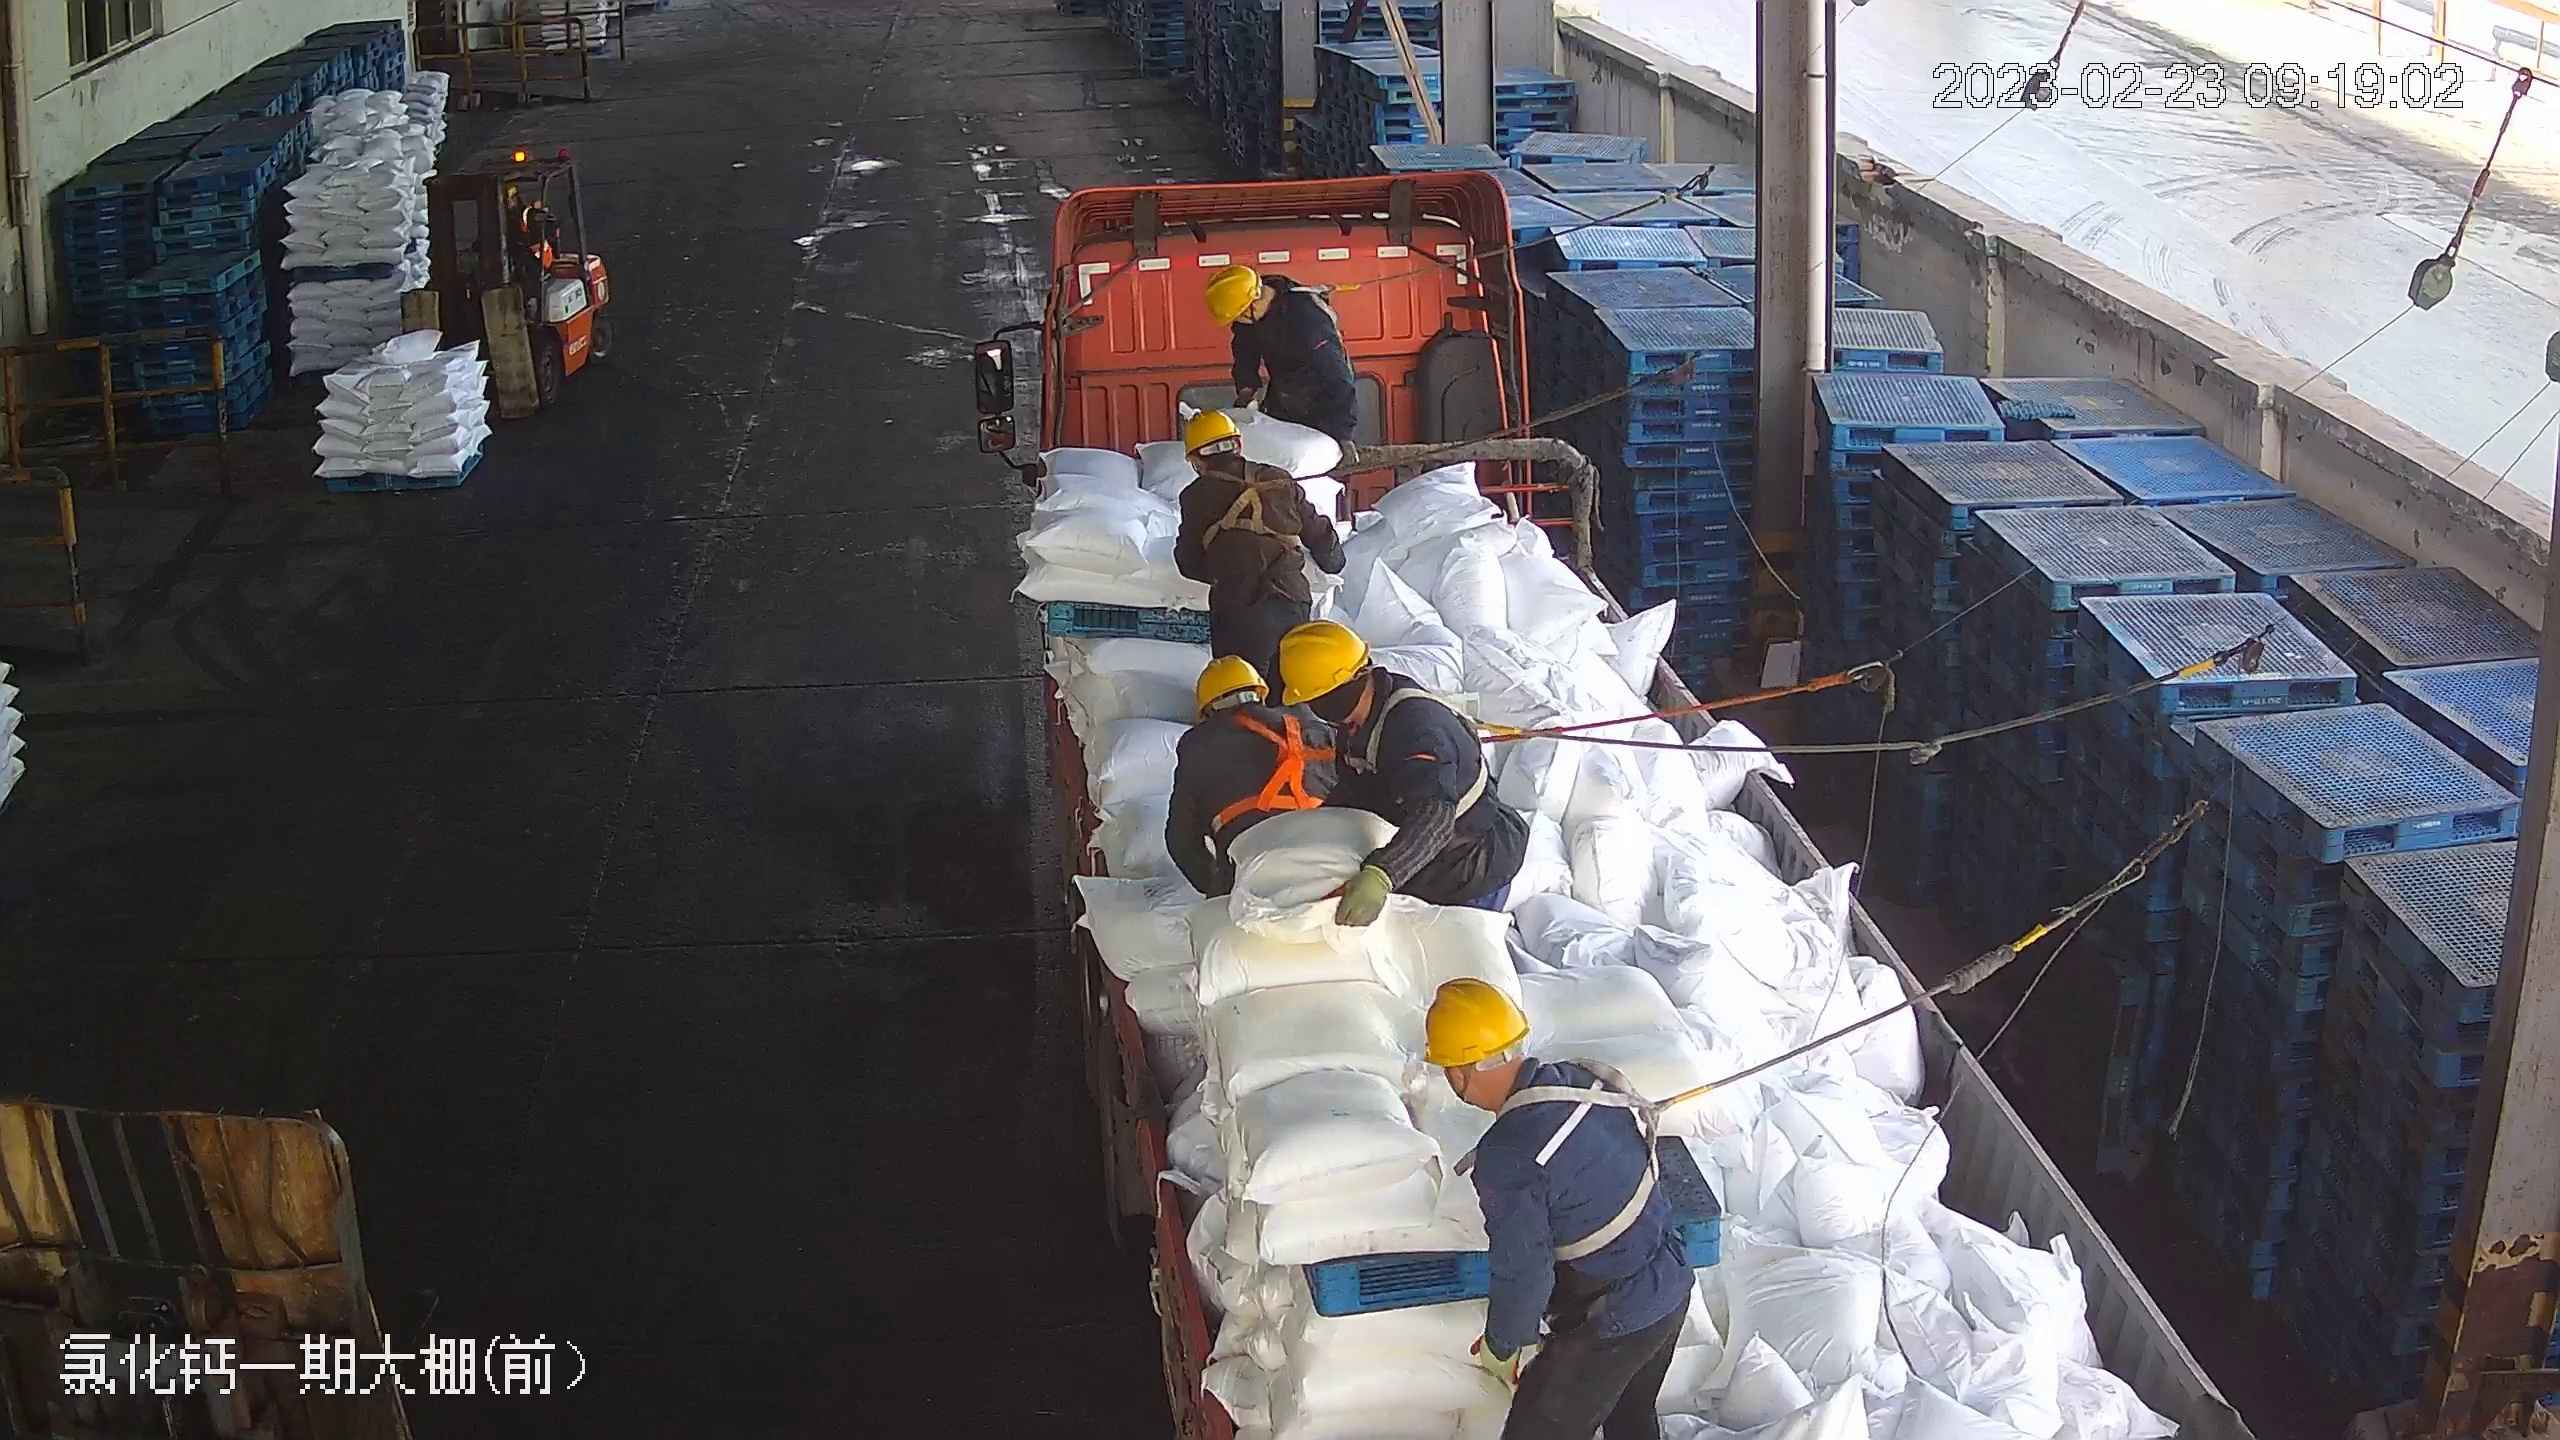belt: (1484, 1062, 1705, 1251), (1341, 680, 1538, 828), (1202, 704, 1328, 825), (1206, 462, 1302, 547), (1286, 277, 1361, 326)
head: (1422, 977, 1638, 1200), (1278, 614, 1451, 775), (1182, 650, 1323, 785), (1178, 406, 1302, 520), (1205, 267, 1325, 360)
helmet: (1422, 975, 1532, 1069), (1277, 616, 1365, 704), (1191, 654, 1265, 716), (1202, 264, 1259, 327), (1181, 407, 1243, 456)
people: (1424, 974, 1690, 1440), (1279, 615, 1533, 923), (1176, 408, 1346, 672), (1203, 265, 1361, 460)
truck: (967, 166, 2258, 1429)
